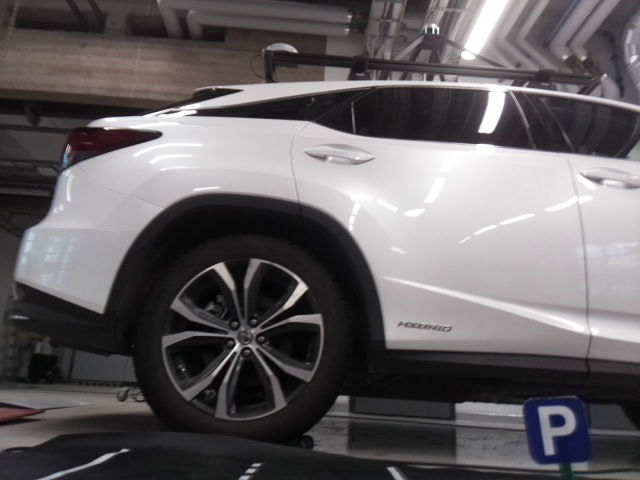Parking: (521, 397, 590, 464)
